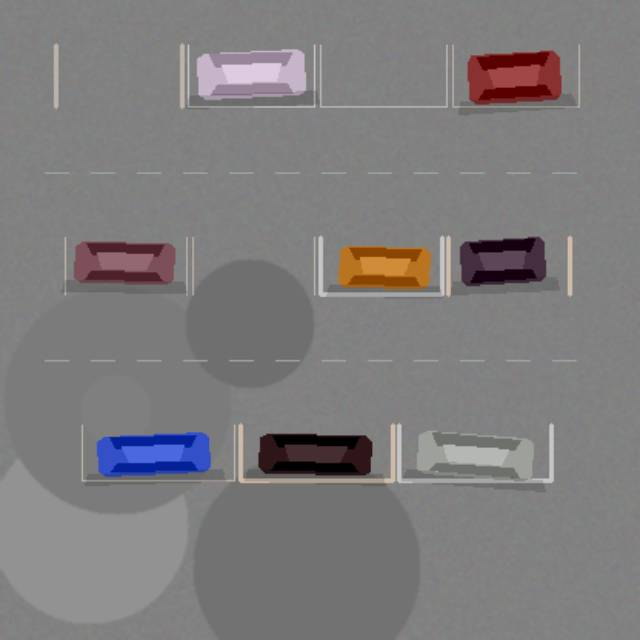space-empty: (55, 45, 182, 106), (320, 45, 446, 106), (192, 237, 314, 294)
space-occupied: (398, 425, 551, 480), (82, 425, 234, 480), (240, 425, 392, 480), (188, 45, 314, 106), (452, 45, 578, 106), (320, 237, 442, 294), (65, 237, 186, 294), (448, 237, 569, 294)
